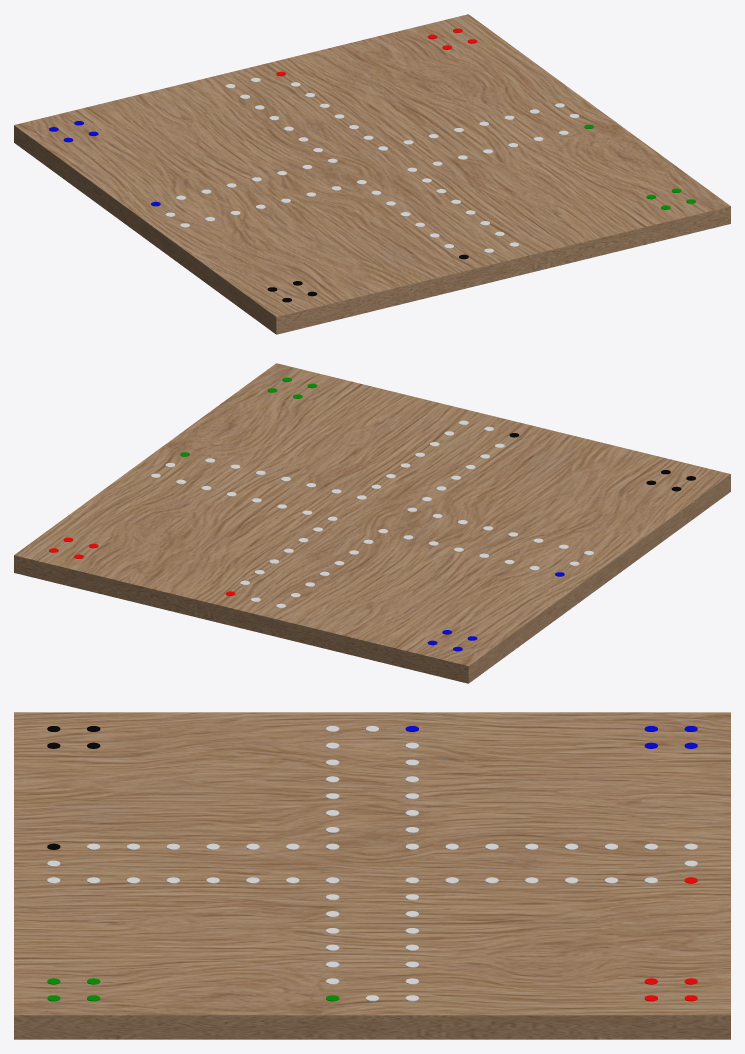
File: board.glb
3 views of the same model, one above another, from view 1: azimuth 30°, elevation 25°; view 2: azimuth 150°, elevation 25°; view 3: azimuth 270°, elevation 25° (orthographic). The views are drawn at different scales.
Parts seen in each view (by area): view 1: Cube; view 2: Cube; view 3: Cube.
Part boxes in pixels (<box>): Cube: <box>14,14,730,334</box>; Cube: <box>14,363,730,683</box>; Cube: <box>14,712,730,1039</box>.
Bounding box in the file's own units: 0.54 × 0.0205 × 0.54.
5 materials, 1 textured.
